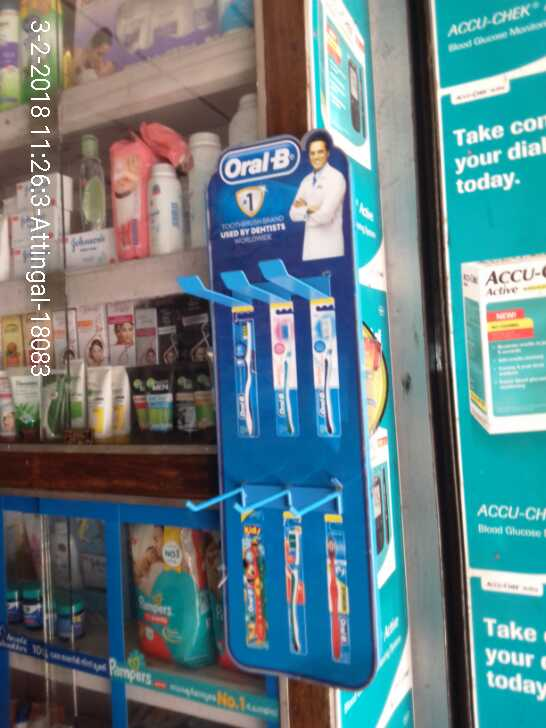pharmacy: (120, 523, 219, 671), (53, 600, 84, 639)
